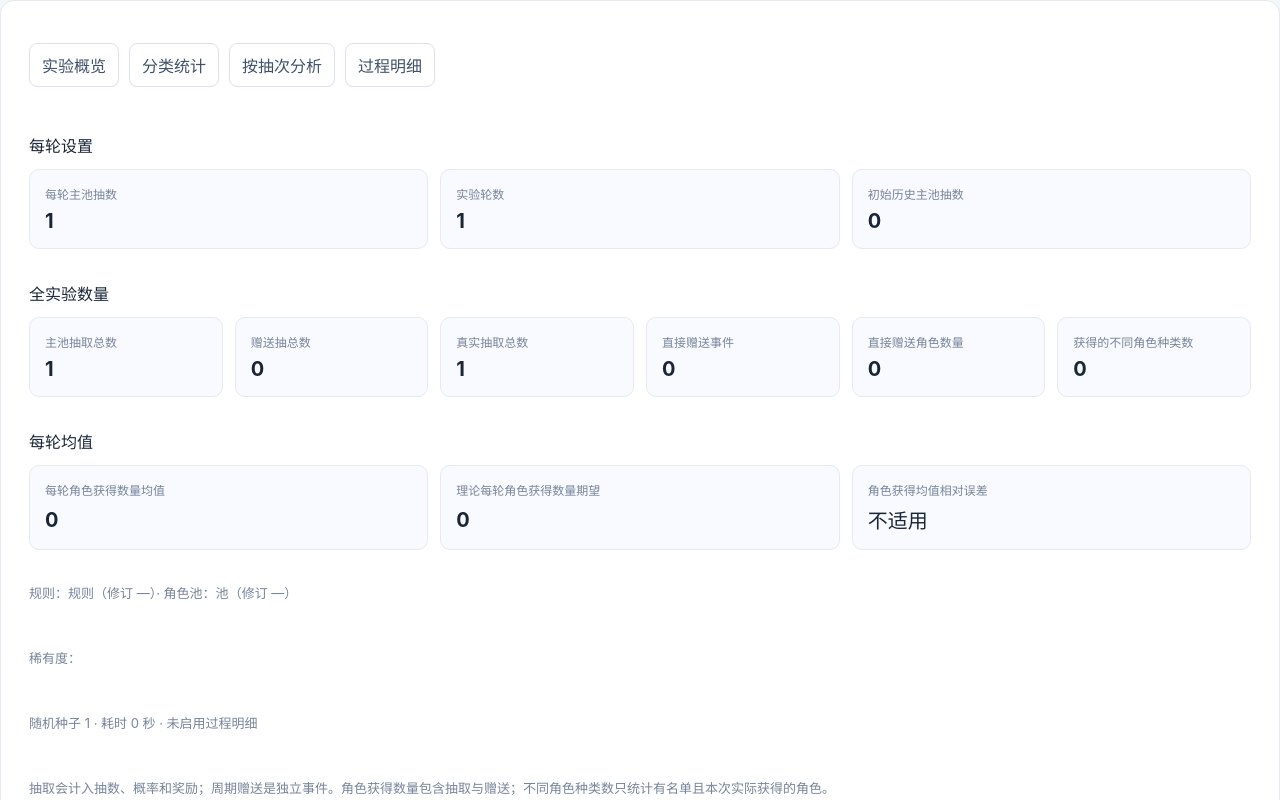
Test: does not show Trace filters when the run did not save detail
Click the tab "过程明细".
click(390, 65)  # box [345, 43, 435, 87]
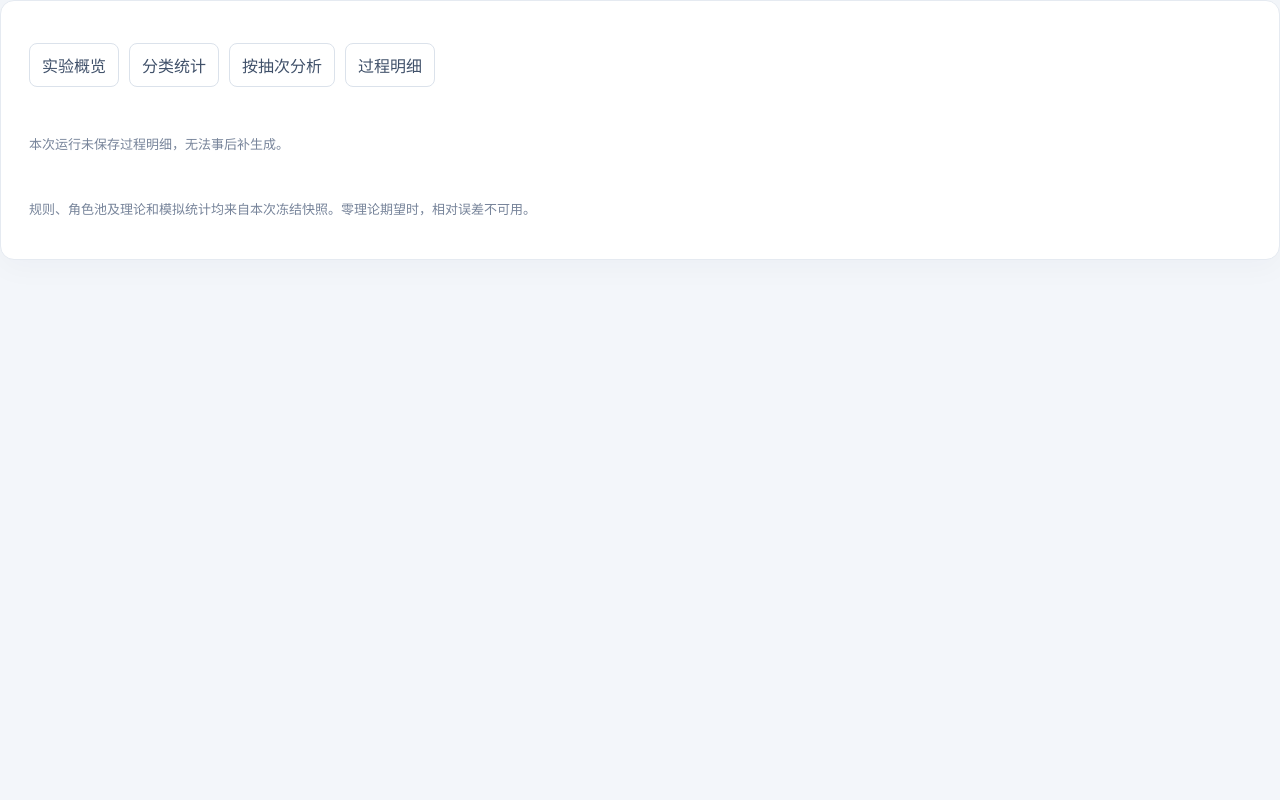
expect the text "本次运行未保存过程明细，无法事后补生成。" is shown: met, box [29, 136, 289, 152]
